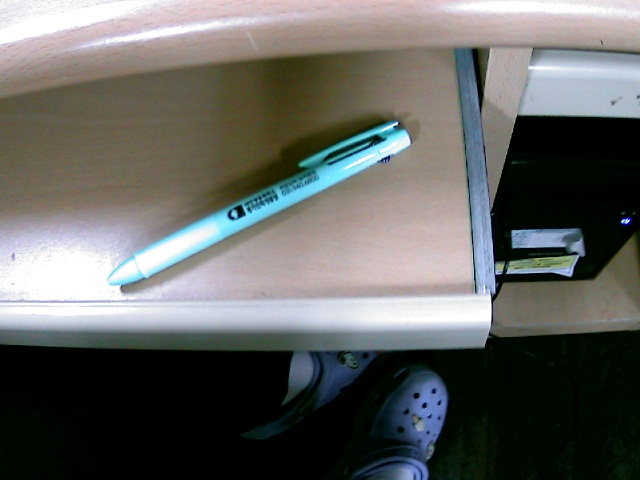pen: (111, 123, 421, 285)
